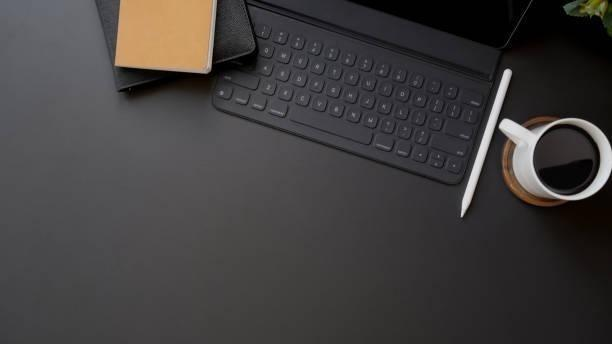cup-handle: (498, 115, 612, 204)
